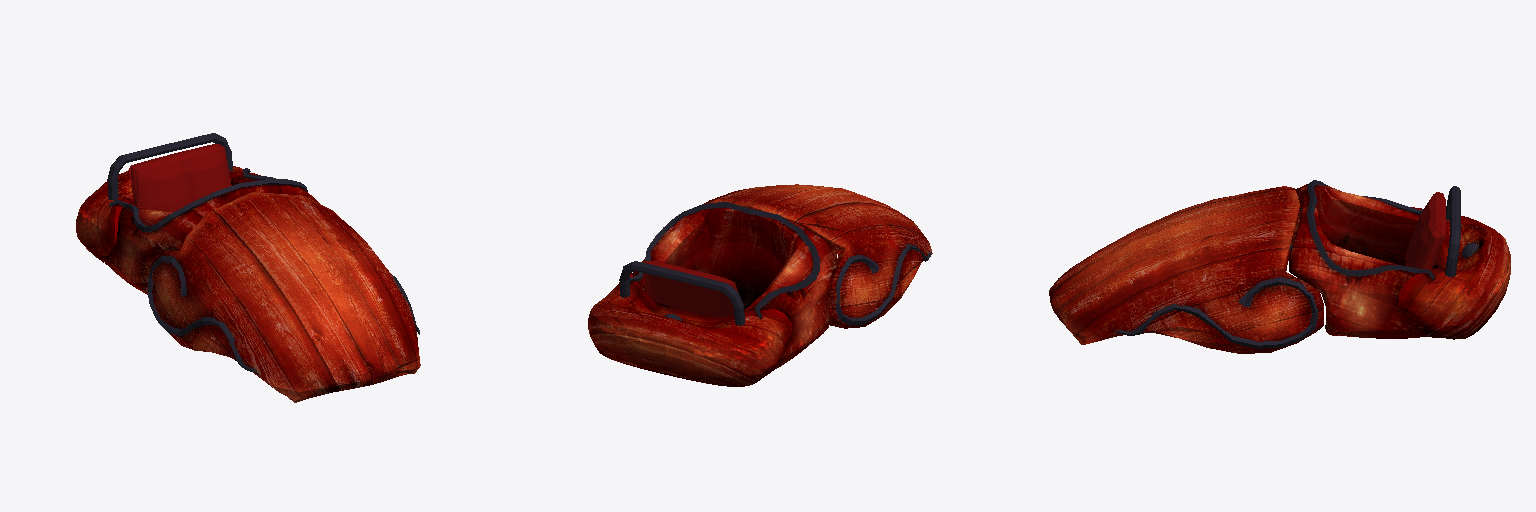
The picture shows the model from 3 angles: view 1: azimuth 30°, elevation 25°; view 2: azimuth 150°, elevation 25°; view 3: azimuth 270°, elevation 25°; orthographic projection.
Visible parts, largest first — view 1: Mesh; view 2: Mesh; view 3: Mesh.
Boxes of the visible parts, x1=… form: Mesh: x1=76, y1=133, x2=420, y2=402; Mesh: x1=588, y1=184, x2=932, y2=386; Mesh: x1=1049, y1=180, x2=1510, y2=353.
Size of the model in its own units: 127 by 71.98 by 251.
Materials: 5 (3 with a texture image).